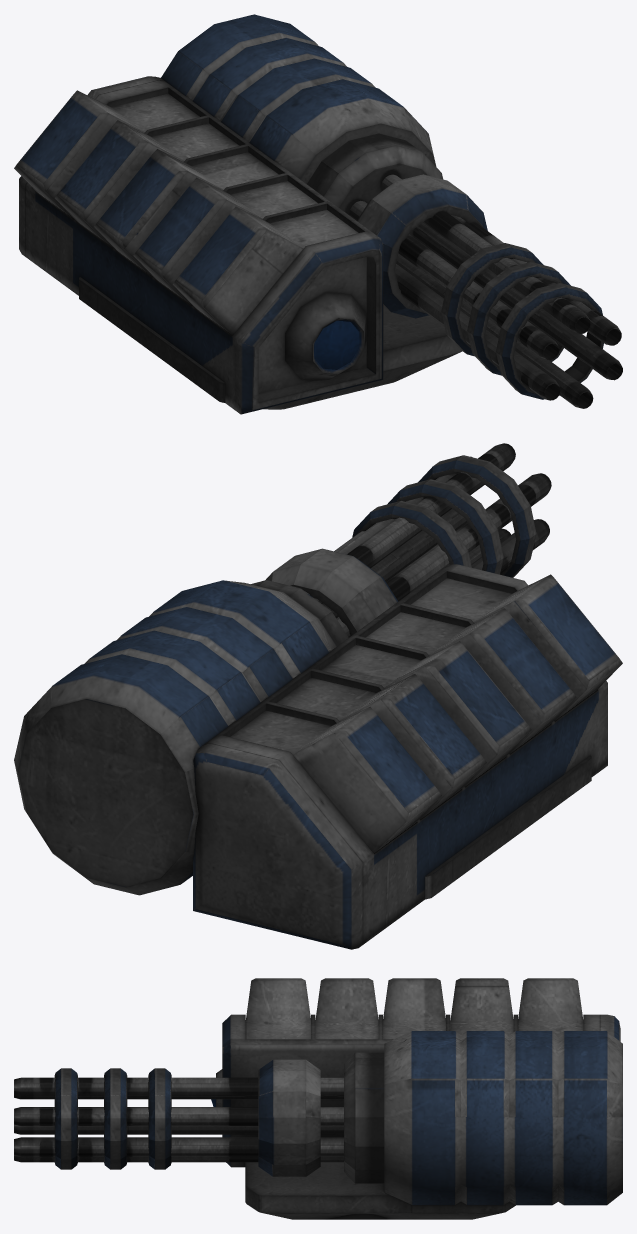
File: Minigun.FBX
The picture shows the model from 3 angles, top to bottom: view 1: azimuth 30°, elevation 25°; view 2: azimuth 150°, elevation 25°; view 3: azimuth 270°, elevation 25°; orthographic projection. The views are drawn at different scales.
Parts seen in each view (by area): view 1: minigun_base, minigun_barrels; view 2: minigun_base, minigun_barrels; view 3: minigun_base, minigun_barrels.
Boxes of the visible parts, x1,y1,x2,y2 form: minigun_base: [14, 14, 462, 414]; minigun_barrels: [307, 133, 622, 408]; minigun_base: [14, 564, 622, 949]; minigun_barrels: [251, 443, 551, 646]; minigun_base: [211, 978, 622, 1219]; minigun_barrels: [14, 1052, 384, 1183].
Size of the model in its own units: 48.16 by 30.07 by 90.51.
